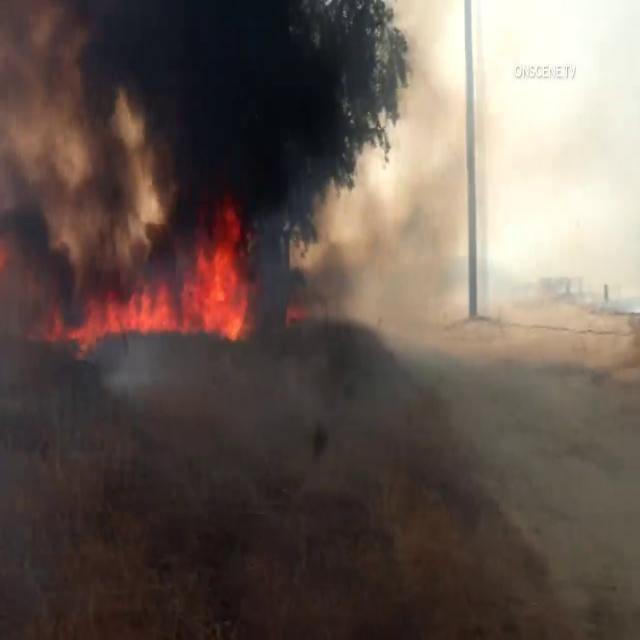Fire: (50, 225, 256, 348)
Smoke: (0, 0, 454, 338)
